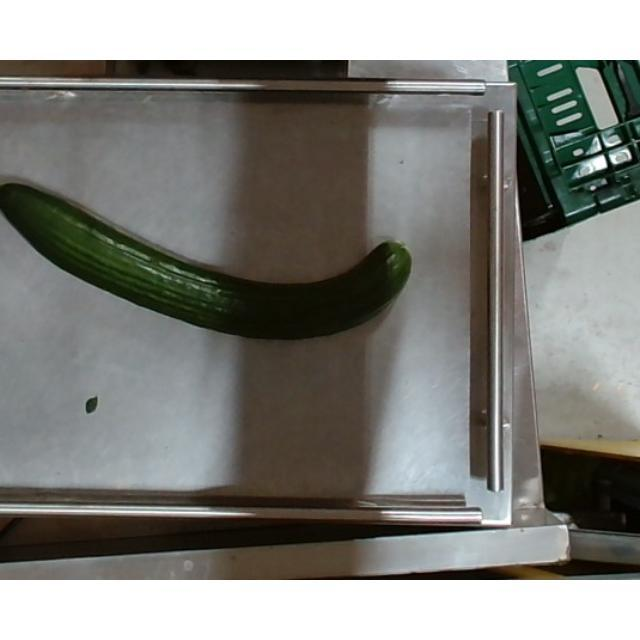cucumber: (0, 178, 414, 338)
